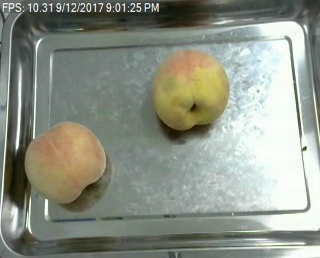Peach: (23, 120, 107, 202), (151, 47, 229, 131)
